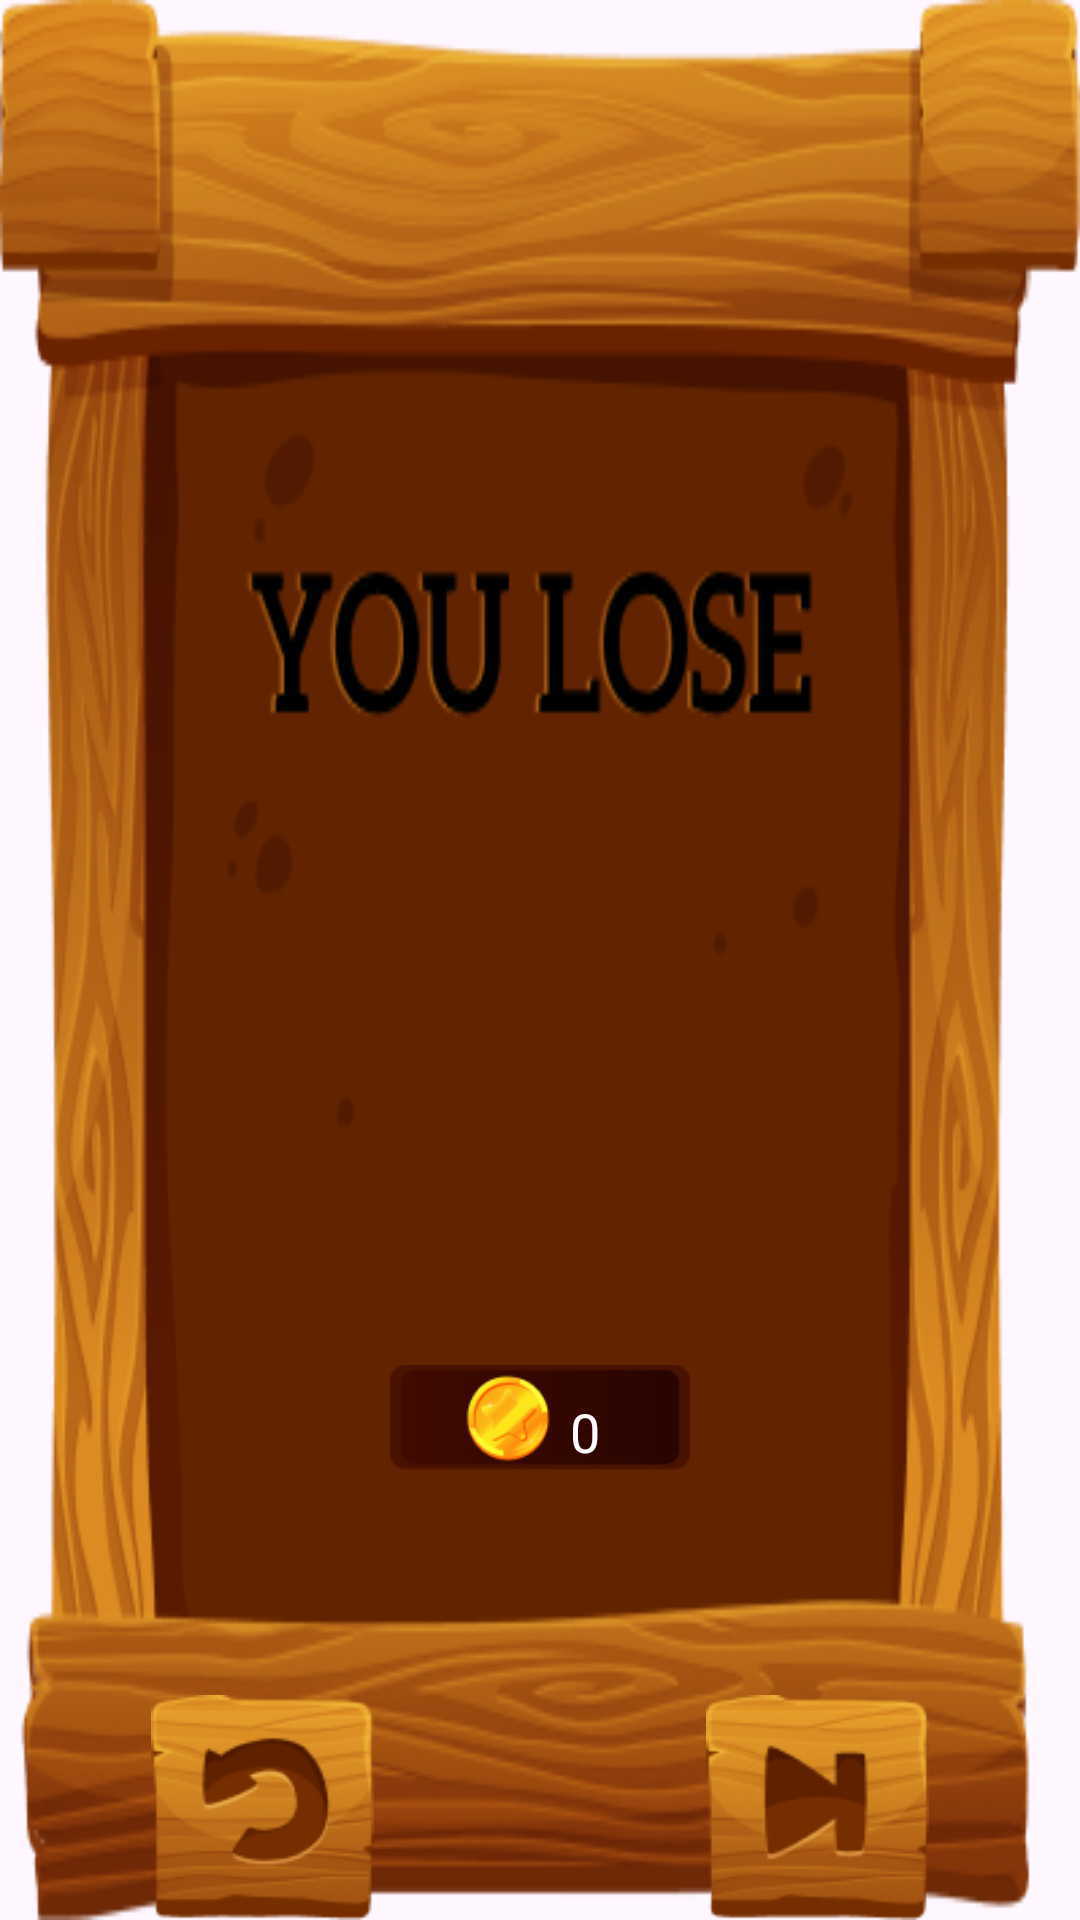

Where to tap for icons on this 1080px×1920px app screen, as [x,y]:
continue: [817,1807]
restart: [262,1780]
